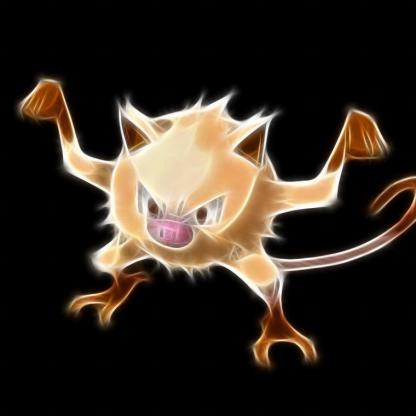Mankey: (1, 58, 416, 381)
